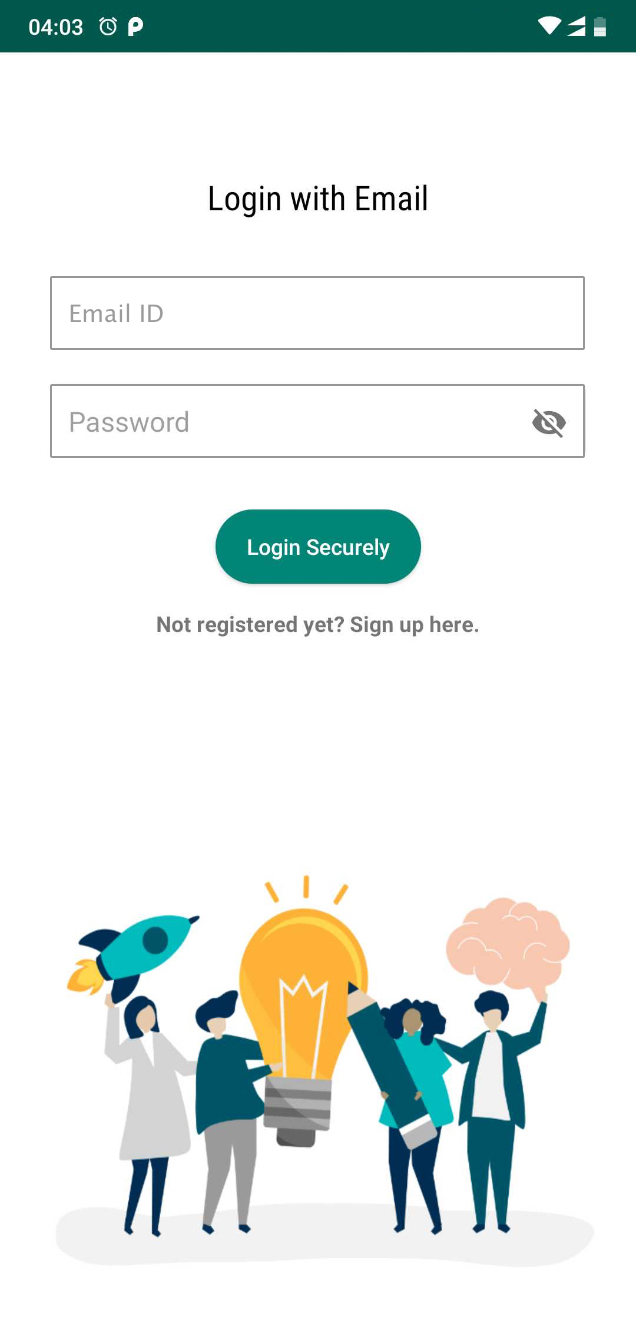EditText: (51, 277, 585, 351), (51, 385, 585, 459)
Icon: (532, 410, 566, 439)
Image: (56, 874, 593, 1267)
Text: (210, 185, 428, 219), (158, 615, 479, 638), (71, 412, 189, 433), (72, 304, 164, 324)
TextButton: (215, 509, 422, 585)
UpperTaskBar: (1, 1, 636, 53)
